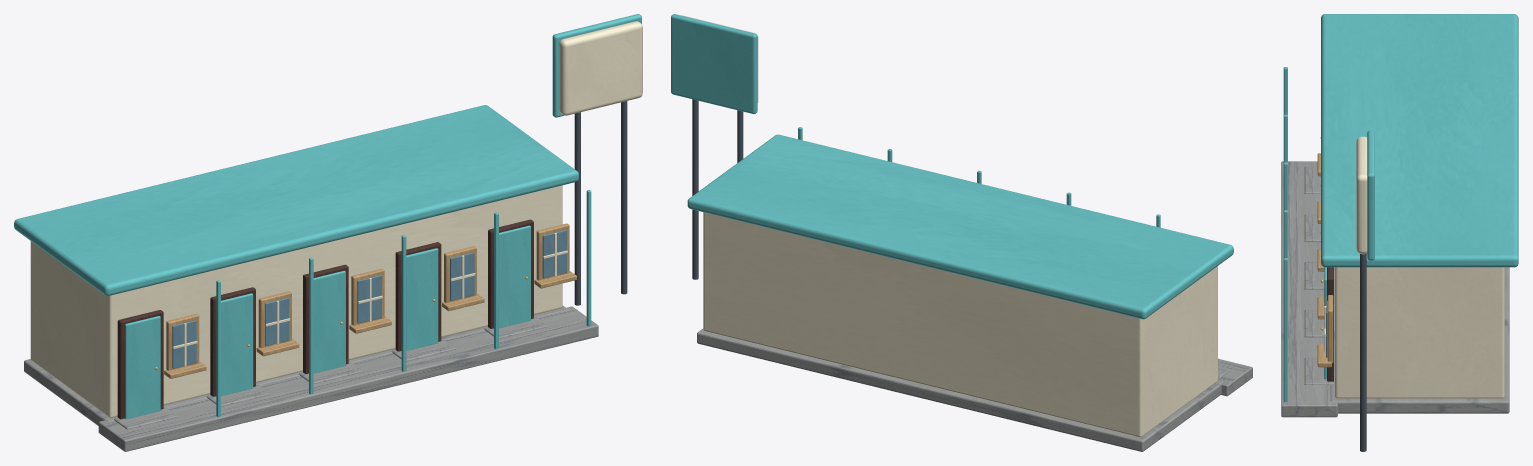
Rendered from motel.glb.
3 views of the same model, side by side, from view 1: azimuth 30°, elevation 25°; view 2: azimuth 150°, elevation 25°; view 3: azimuth 270°, elevation 25° (orthographic). The views are drawn at different scales.
Parts seen in each view (by area): view 1: motel; view 2: motel; view 3: motel.
Part boxes in pixels (x1=…): motel: x1=14, y1=14, x2=642, y2=451; motel: x1=671, y1=14, x2=1252, y2=451; motel: x1=1281, y1=14, x2=1518, y2=451.
Size of the model in its own units: 12.07 by 5.6 by 4.2.
3 materials, 3 textured.
